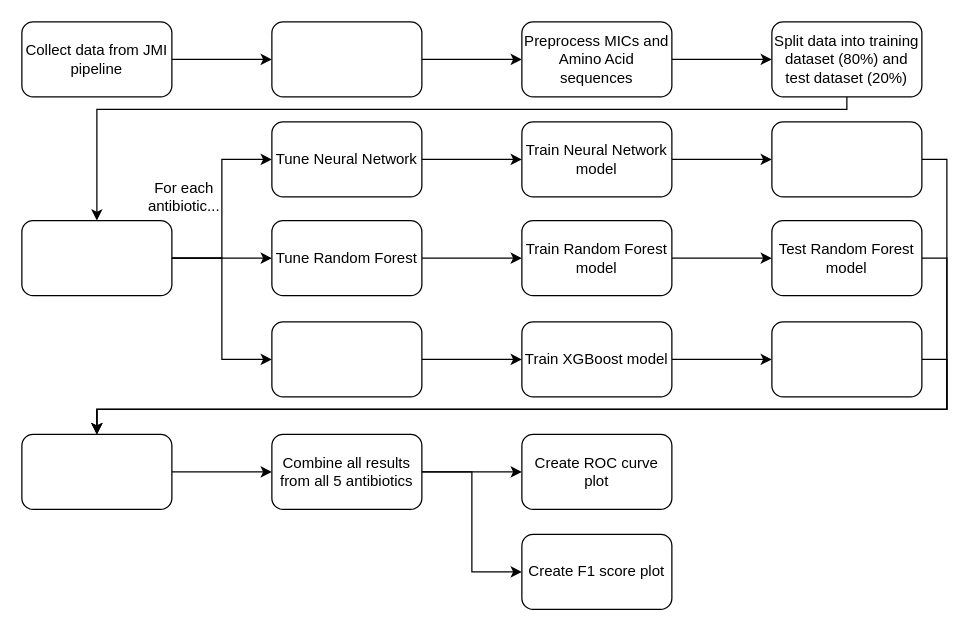
Image size: 979x631. Some labels were removed from this diagram. Here are the shapes that lost their labels. From the top down, the box of each, then its label:
(271, 21, 422, 97): Separate MIC values from Amino Acid sequences
(771, 121, 922, 197): Test Neural Network model
(21, 219, 172, 296): Separate MICs into the 5 separate antibiotics being tested
(271, 321, 422, 397): Tune XGBoost
(771, 321, 922, 397): Test XGBoost model
(21, 433, 172, 509): Collect results from tests for single antibiotic
